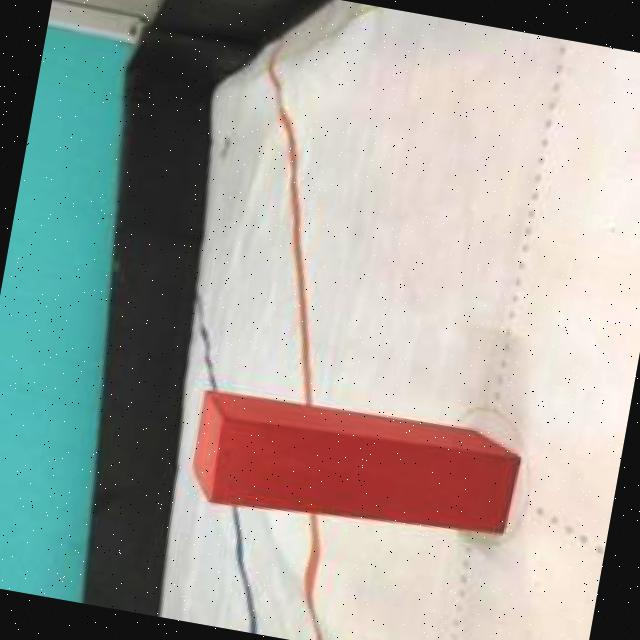redbox: (182, 381, 524, 556)
